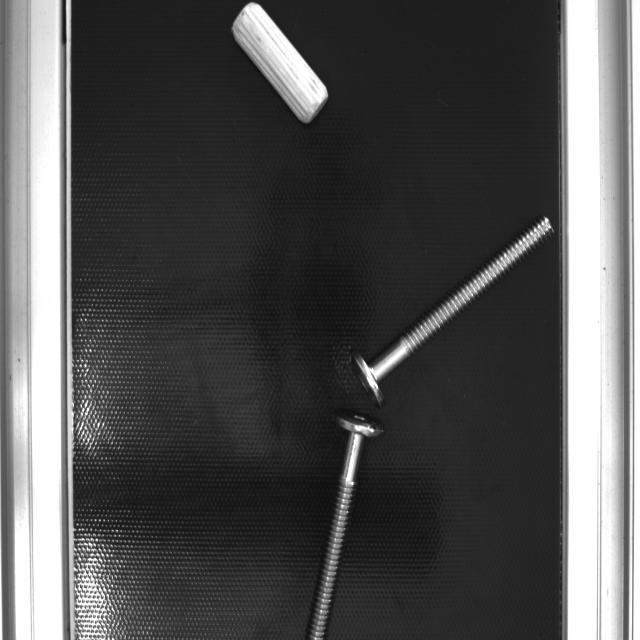Chot go: (224, 0, 334, 130)
bulon: (371, 213, 557, 383), (304, 433, 369, 639)
